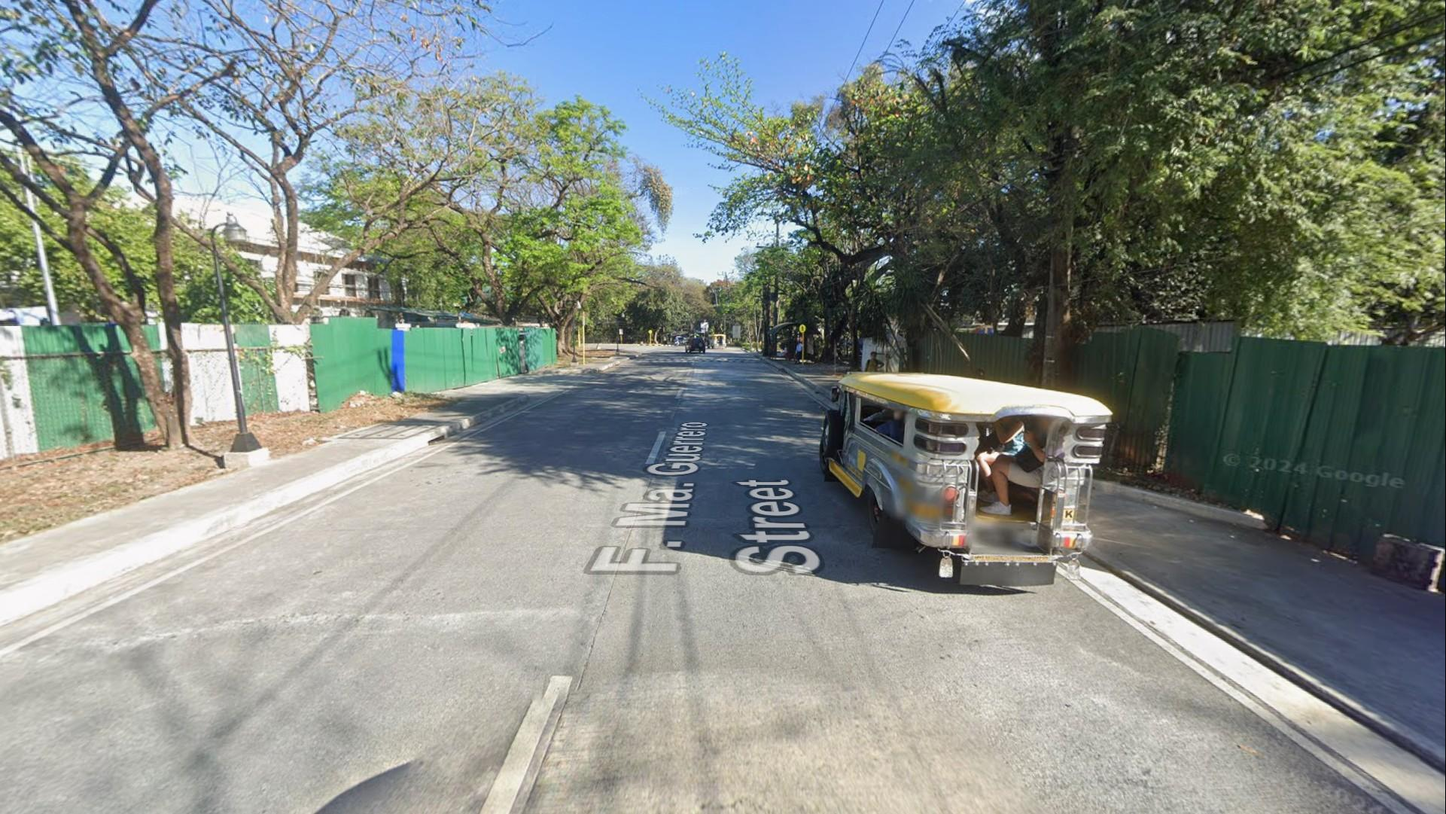pedestrian: (863, 344, 884, 396), (794, 339, 804, 365), (769, 339, 777, 362), (783, 342, 791, 362)
